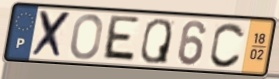6: (175, 19, 209, 67)
C: (208, 21, 247, 70)
E: (100, 14, 142, 65)
O: (69, 12, 105, 61)
Q: (139, 17, 174, 65)
X: (30, 9, 74, 60)
